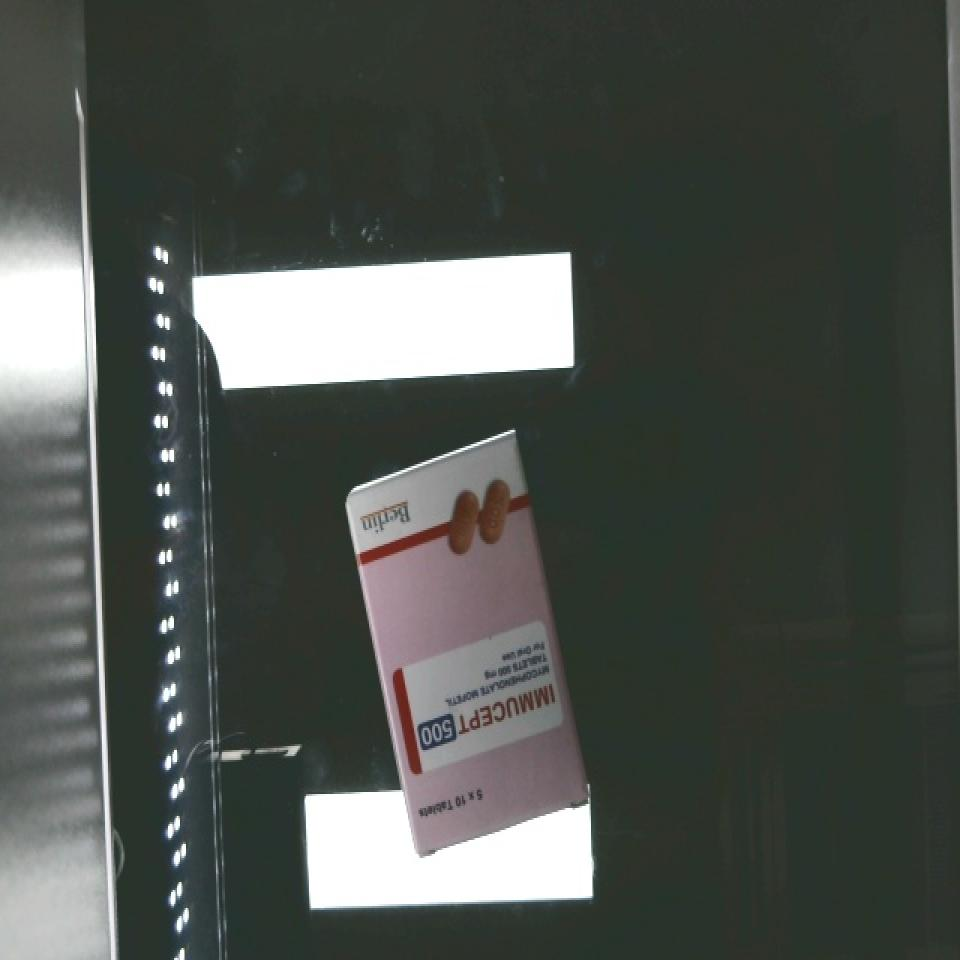medicine_box: (326, 437, 596, 856)
medicine_label_obb: (396, 663, 569, 771)
